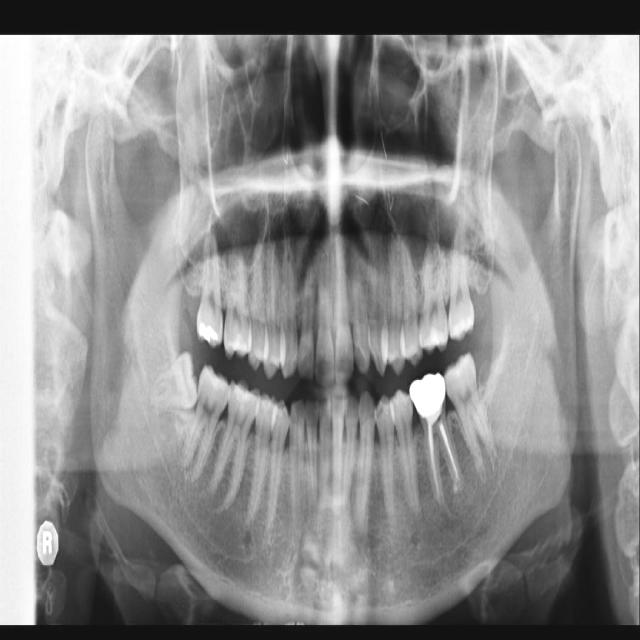Crown: (408, 372, 447, 423)
Filling: (198, 320, 223, 346), (229, 334, 251, 356)
Root Canal Treatment: (440, 420, 459, 501), (429, 423, 441, 505)
impacted tooth: (148, 352, 197, 409)
